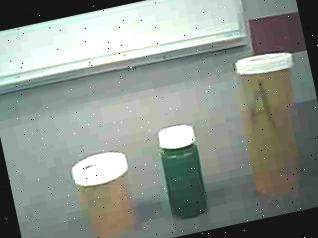Bottle A: (220, 44, 318, 208)
Bottle B: (62, 145, 148, 238)
Bottle C: (144, 116, 224, 229)
